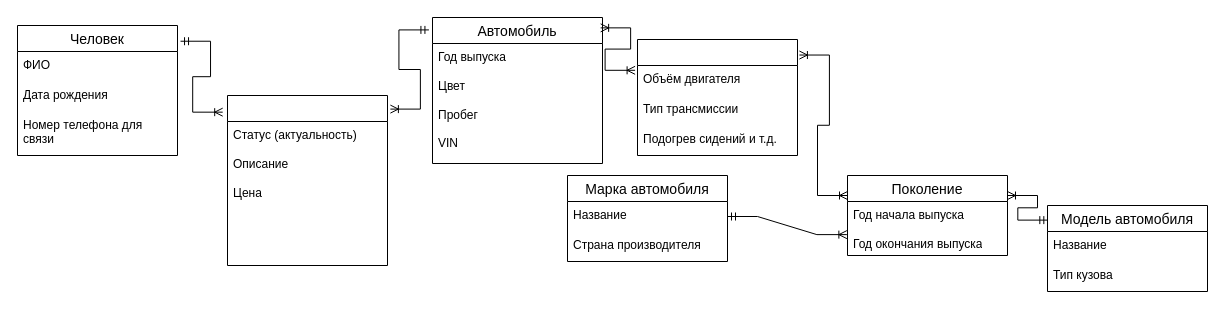
Image size: 1225x312. Some labels were removed from this diagram. The shapes that lost their labels are listed below. From the top down, each one's box as (x1, y1, x2, y2) in pixels, then its label:
(636, 38, 798, 156): Модификация
(226, 94, 388, 266): Объявление
